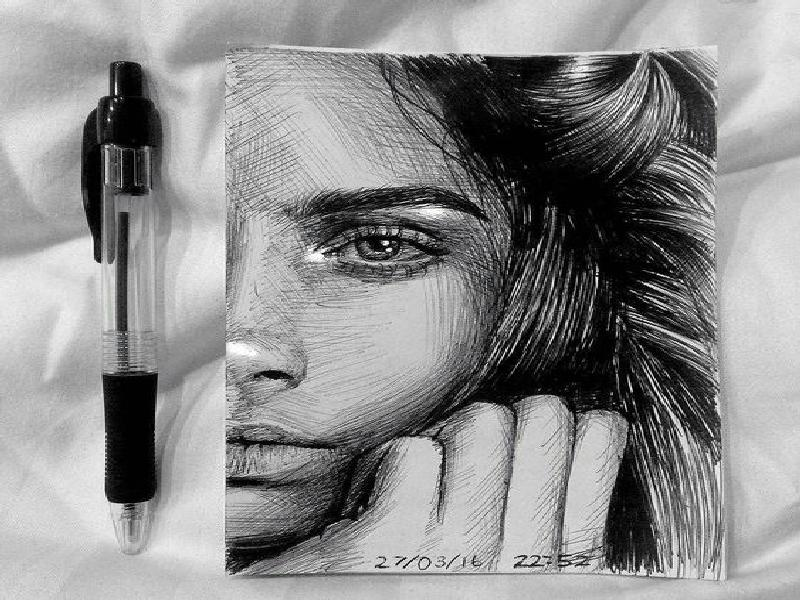pen: (77, 52, 184, 566)
